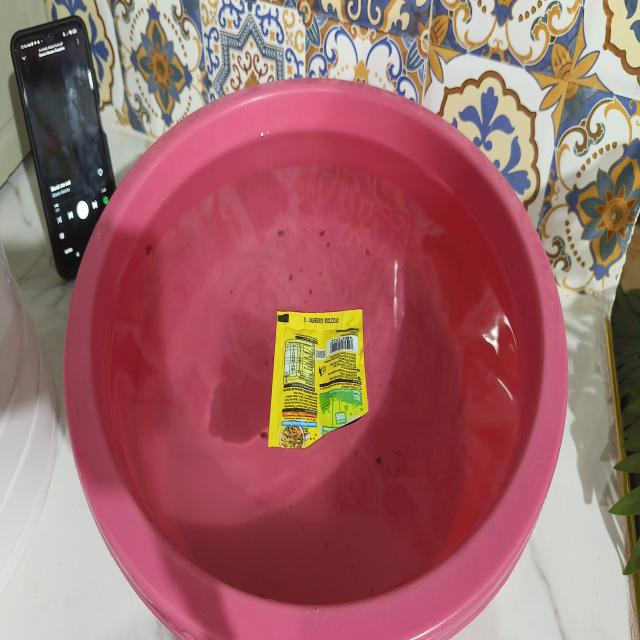Plastic Wrapper: (242, 264, 389, 492)
